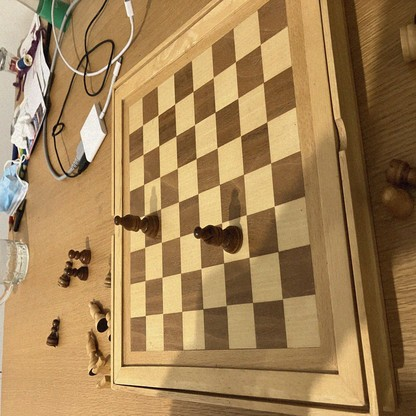bishop_black: (195, 226, 244, 253), (113, 215, 159, 237)
bishop_white: (87, 330, 99, 376)
knight_white: (92, 355, 112, 374), (97, 377, 112, 391)
pawn_black: (58, 262, 72, 288), (47, 319, 59, 346), (67, 268, 89, 281), (69, 251, 91, 262)
pawn_white: (381, 186, 414, 219), (106, 310, 113, 340)
queen_white: (88, 302, 106, 332)
rock_black: (387, 159, 416, 185)
